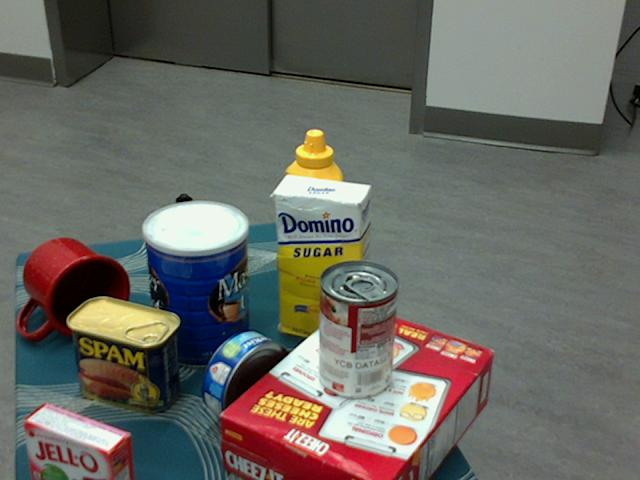cracker_box: (219, 303, 493, 479)
gelatin_box: (22, 399, 132, 479)
large_marker: (176, 193, 195, 290)
master_chef_can: (142, 201, 249, 369)
mug: (20, 236, 129, 339)
mustard_bottle: (283, 129, 341, 304)
potted_meat_can: (66, 294, 179, 411)
sugar_box: (273, 173, 371, 349)
tomato_soup_can: (316, 261, 398, 400)
tuna_fish_can: (201, 331, 291, 429)
